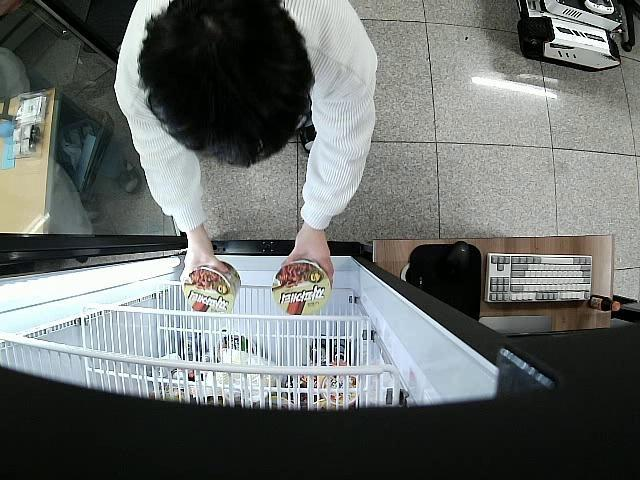03_chapagetti_L: (272, 260, 332, 316), (182, 260, 241, 312)
